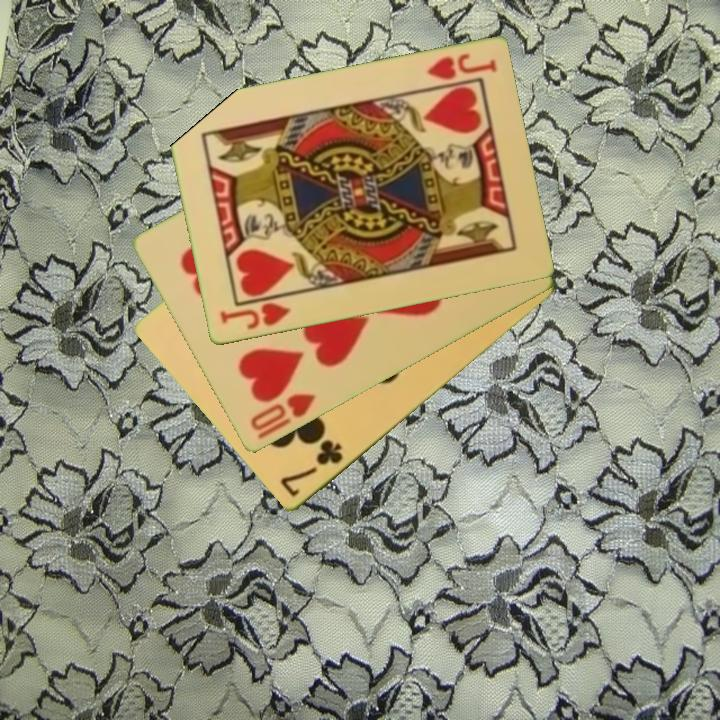10h: (246, 390, 319, 443)
7c: (276, 436, 346, 501)
Jh: (216, 291, 296, 333), (423, 50, 499, 84)
